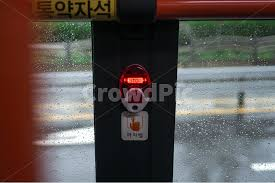bell: (119, 63, 152, 114)
